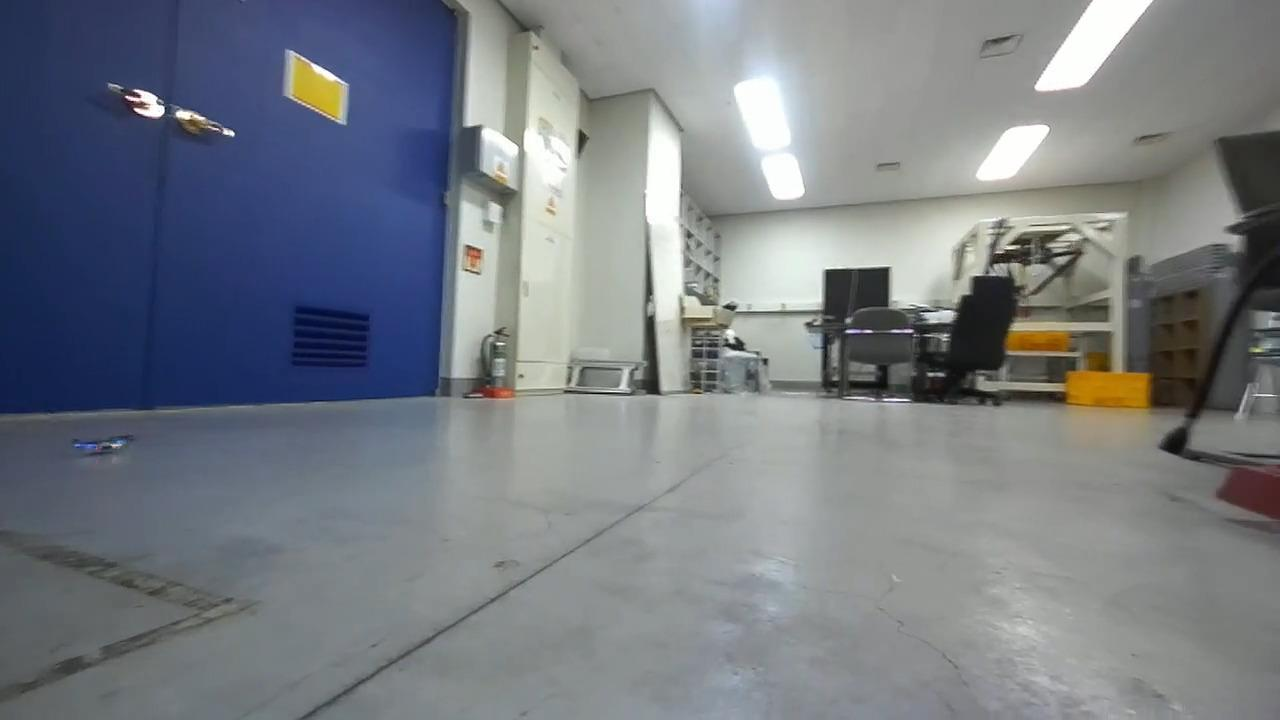crazyflie: (66, 431, 136, 459)
